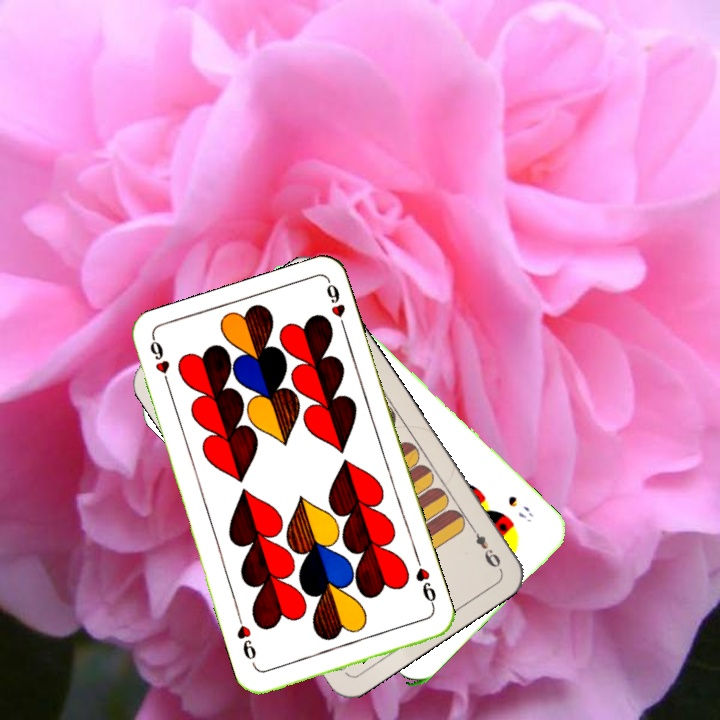E9: (465, 520, 504, 572)
H9: (411, 555, 439, 613), (146, 335, 174, 393)
S8: (504, 491, 537, 526)
